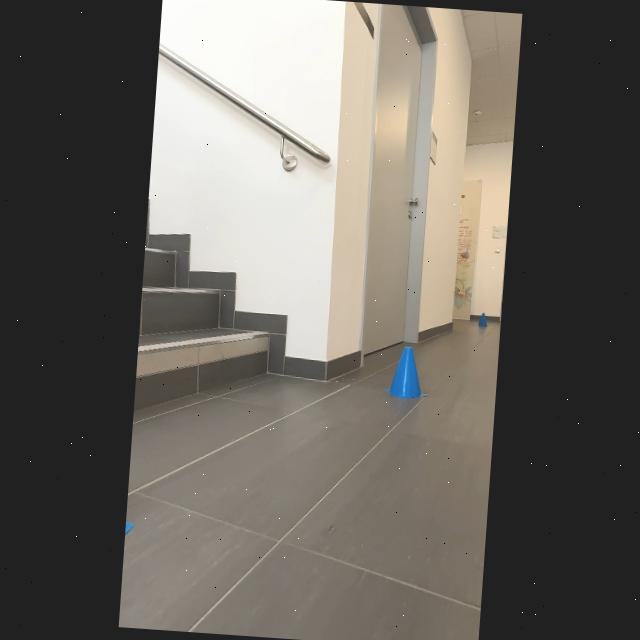blue_cone: (382, 340, 430, 402)
